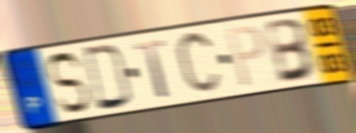B: (263, 16, 318, 86)
C: (174, 27, 224, 100)
D: (81, 43, 134, 113)
P: (225, 23, 268, 90)
S: (45, 50, 92, 116)
T: (133, 38, 173, 101)
